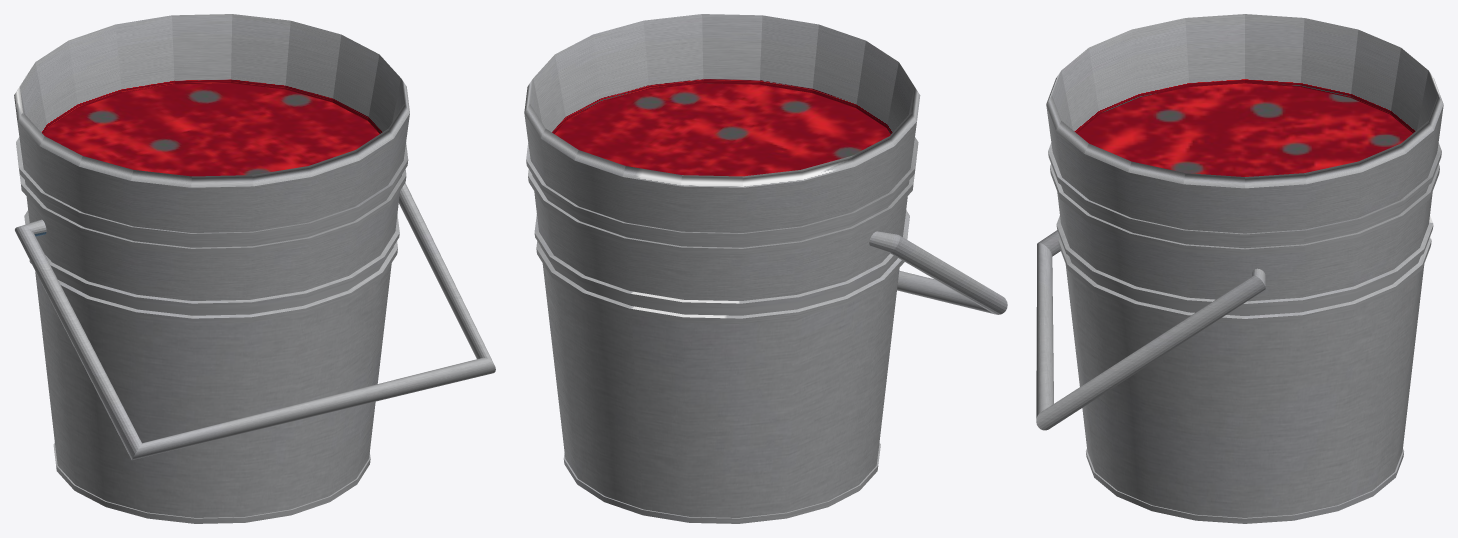
Rendered from BucketWithPosion.fbx.
The picture shows the model from 3 angles, left to right: view 1: azimuth 30°, elevation 25°; view 2: azimuth 150°, elevation 25°; view 3: azimuth 270°, elevation 25°; orthographic projection.
Visible parts, largest first — view 1: PaintBocket; view 2: PaintBocket; view 3: PaintBocket.
Boxes of the visible parts, x1,y1,x2,y2 form: PaintBocket: (14,14,495,523); PaintBocket: (524,14,1007,523); PaintBocket: (1036,14,1443,523).
Bounding box in the file's own units: 42.73 × 40.13 × 41.
